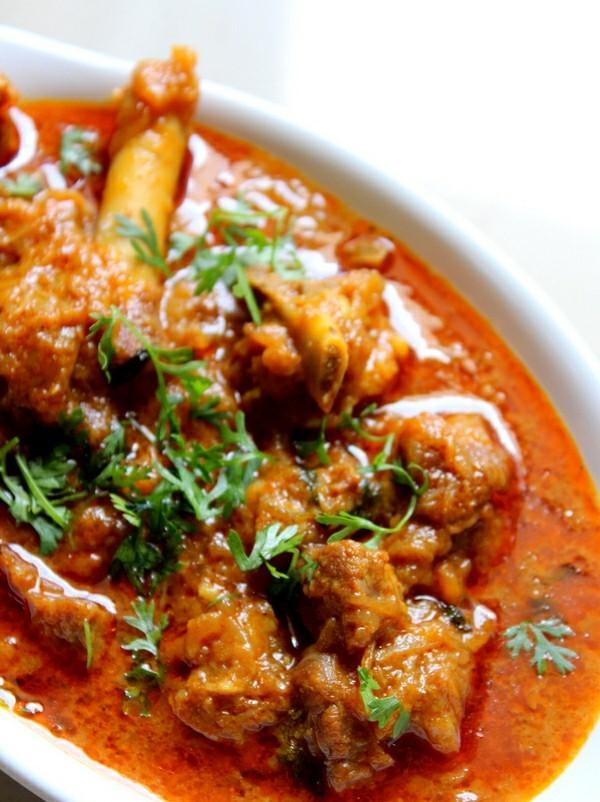MuttonCurry: (0, 38, 600, 802)
